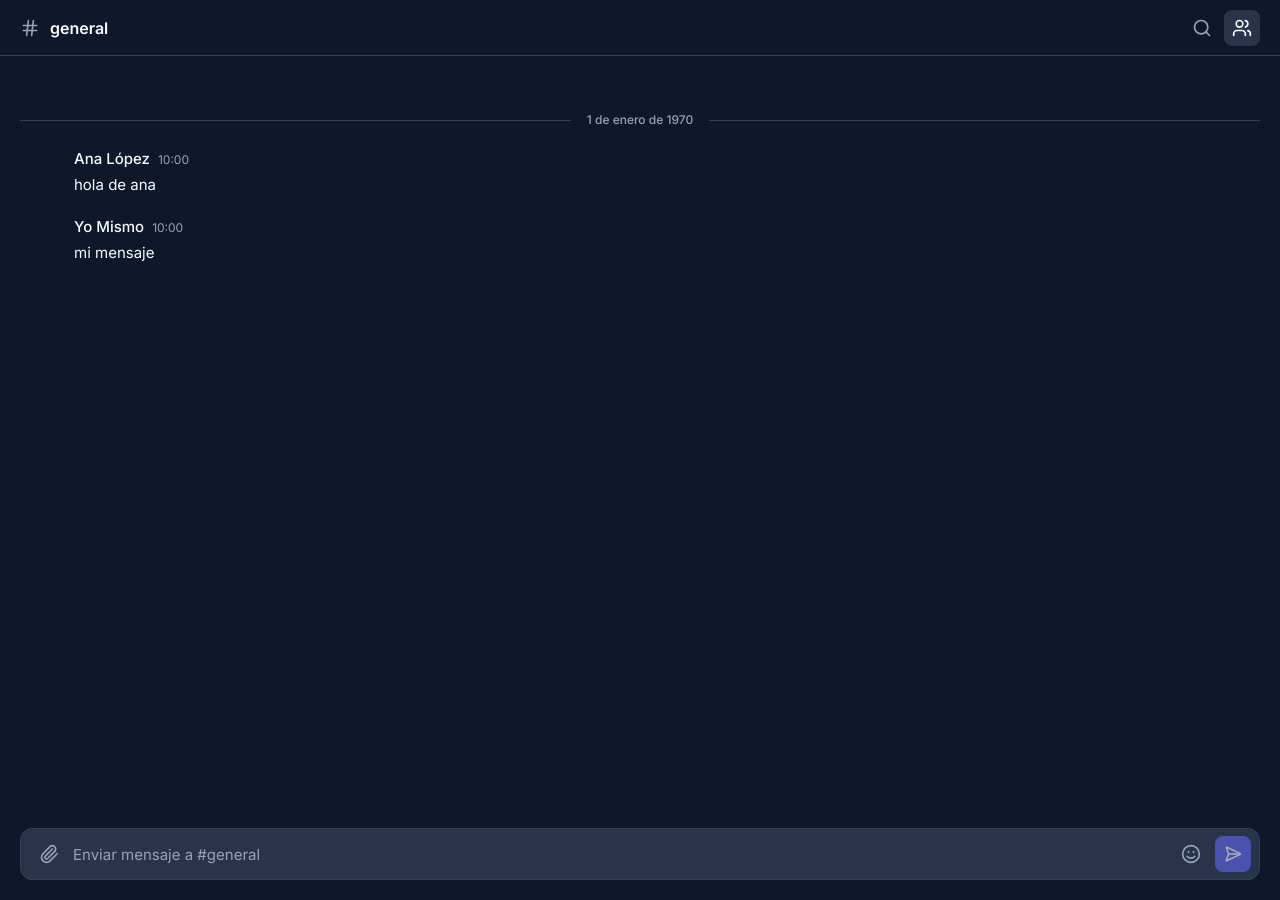
it: CanalTexto: editar y borrar › con el campo vacío, la flecha arriba edita mi último mensaje
Click the field named "Mensaje para #general" at {"x": 620, "y": 854}, box [73, 829, 1167, 879]
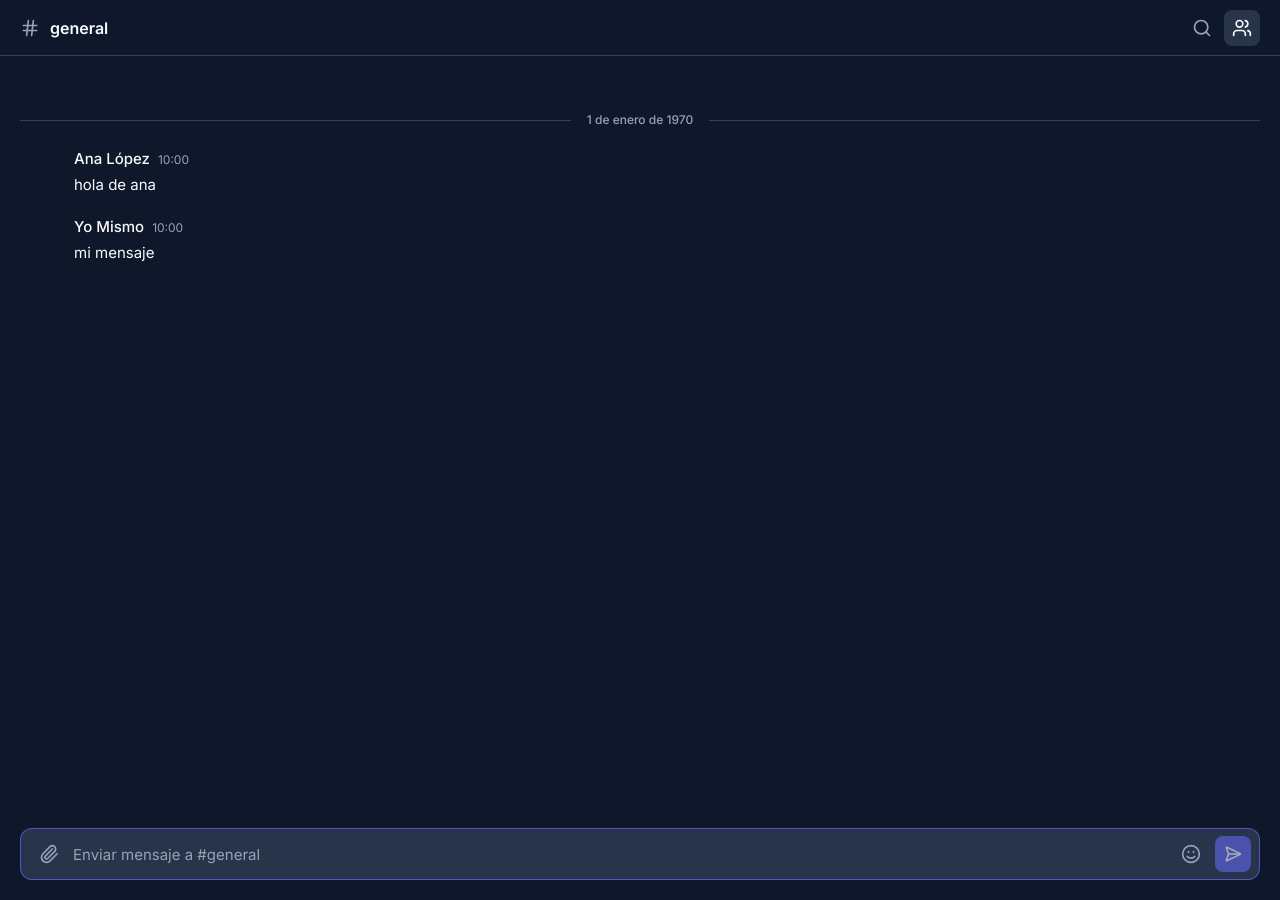
Press Arrowup
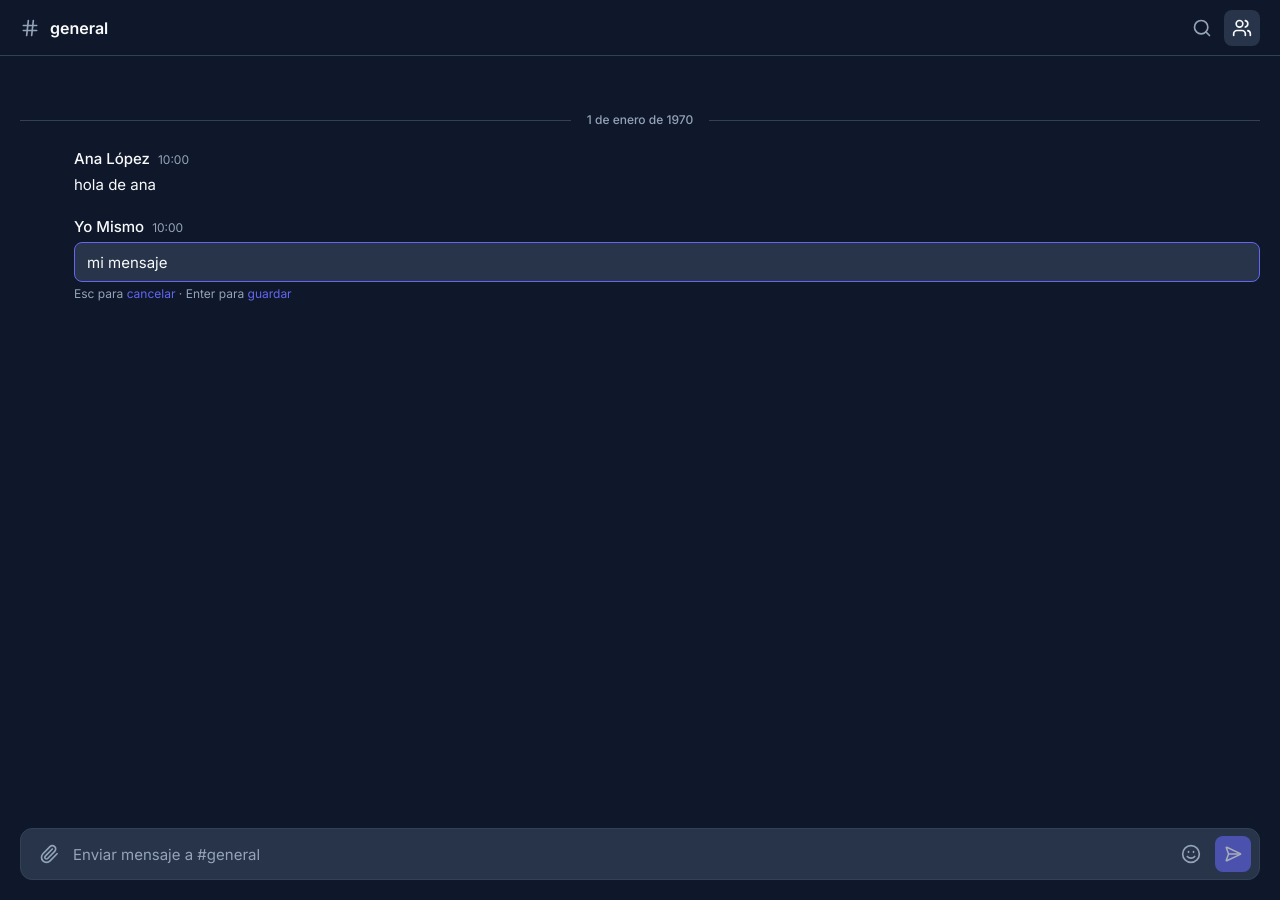
expect the field named "Editar mensaje" holds "mi mensaje": met, box [74, 242, 1260, 282]
